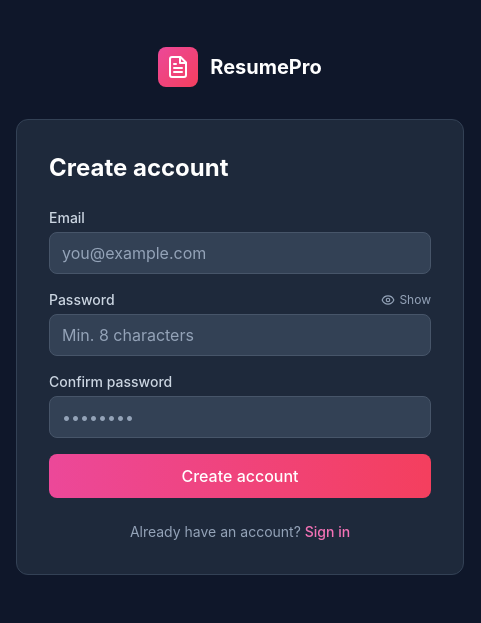
Scenario: Register page › shows error when password is too short
The image size is (481, 623).
Step 1. Type "a@b.com" into the field with placeholder "you@example.com" → (240,253), box [49, 232, 431, 274]
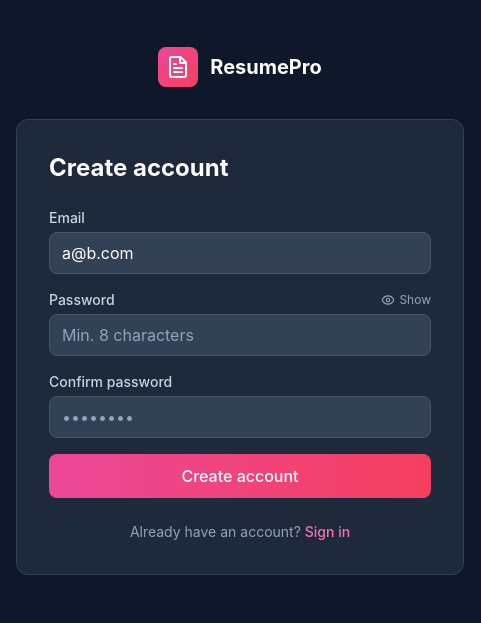
Step 2. Type "short" into the password field with placeholder "Min. 8 characters" → (240,335), box [49, 314, 431, 356]
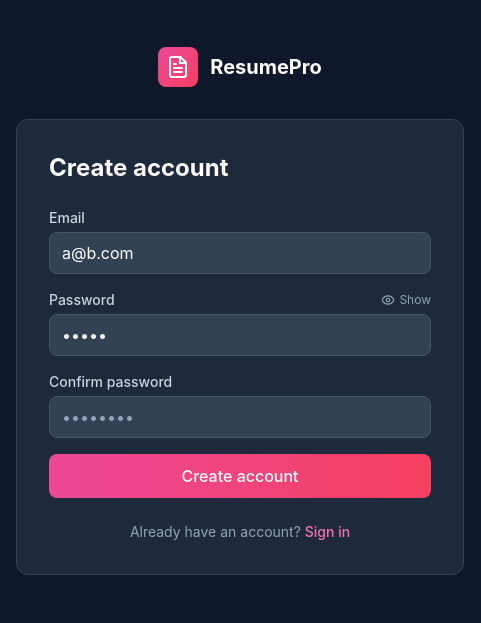
Step 3. Type "short" into the password field with placeholder "••••••••" → (240,417), box [49, 396, 431, 438]
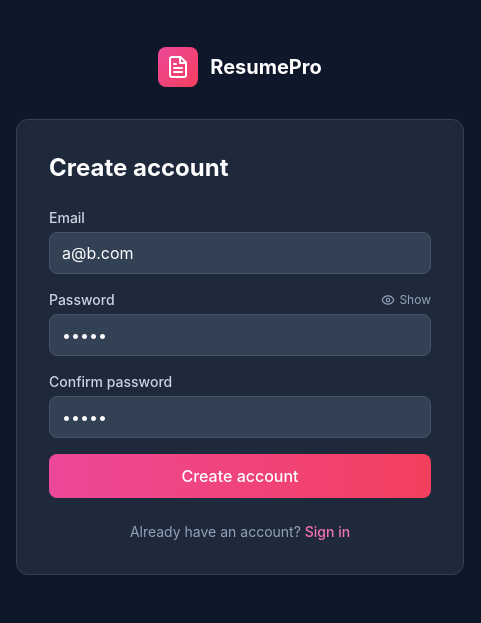
Step 4. Click the button "Create account" → (240,476), box [49, 454, 431, 498]
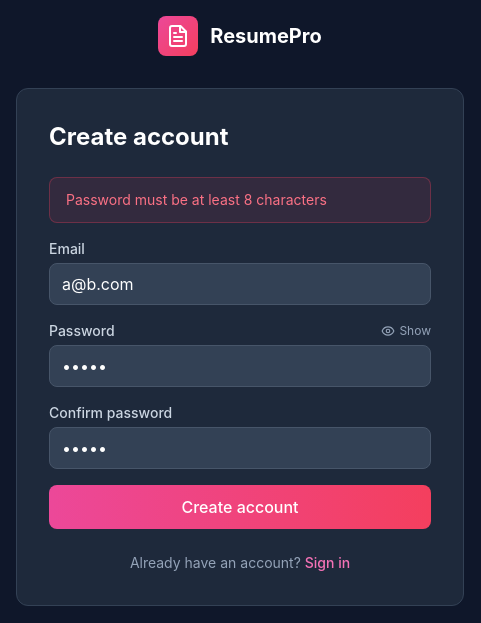
Now the text "Password must be at least 8 characters" is shown, box [49, 177, 431, 223]
